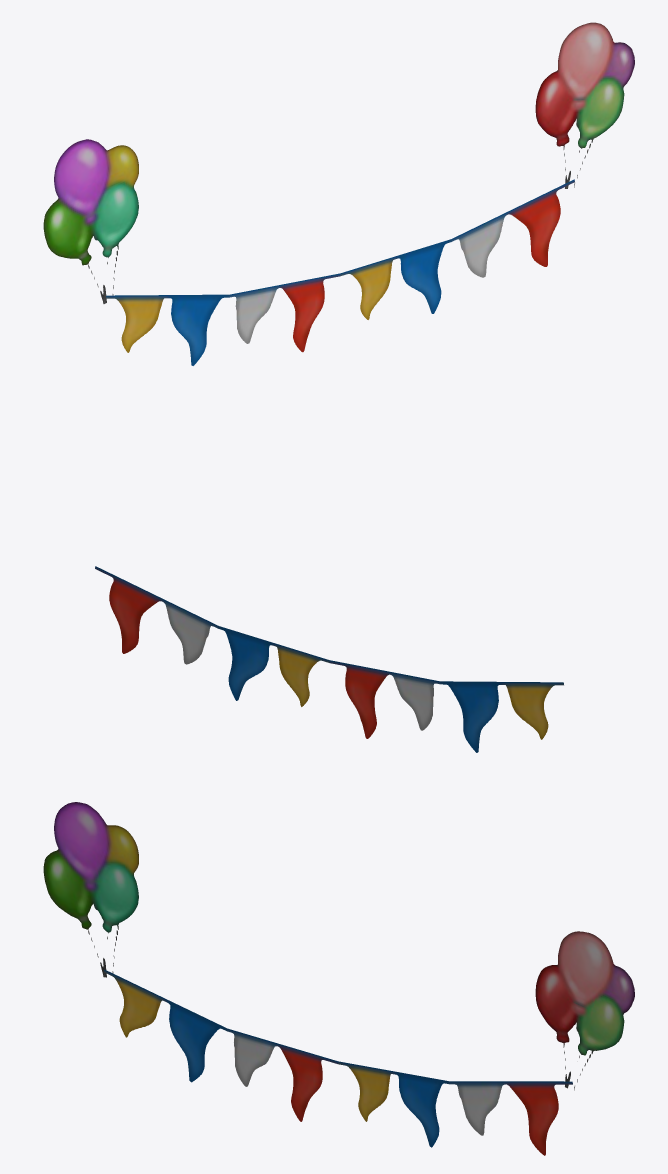
File: banner_victory.glb
The picture shows the model from 3 angles, top to bottom: view 1: azimuth 30°, elevation 25°; view 2: azimuth 150°, elevation 25°; view 3: azimuth 330°, elevation 25°; orthographic projection.
Visible parts, largest first — view 1: BannerVictory, balloonsLMesh, balloonsRMesh; view 2: BannerVictory; view 3: BannerVictory, balloonsLMesh, balloonsRMesh.
Part boxes in pixels (bbox=[...]): BannerVictory: bbox=[106, 179, 574, 365]; balloonsLMesh: bbox=[43, 139, 138, 303]; balloonsRMesh: bbox=[535, 22, 634, 188]; BannerVictory: bbox=[95, 566, 563, 752]; BannerVictory: bbox=[104, 969, 572, 1155]; balloonsLMesh: bbox=[43, 802, 138, 977]; balloonsRMesh: bbox=[535, 931, 634, 1090].
Bounding box in the file's own units: 15.98 × 7 × 0.0427.
2 materials, 2 textured.
